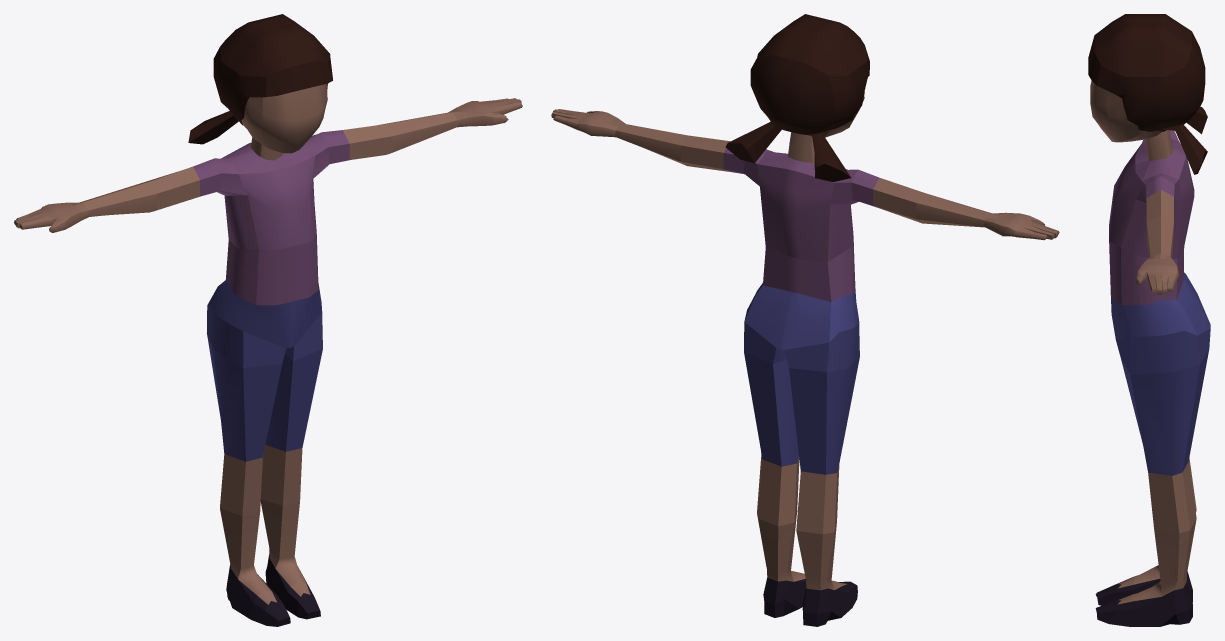
File: girl_model.fbx
3 renders of one model, left to right at view 1: azimuth 30°, elevation 25°; view 2: azimuth 150°, elevation 25°; view 3: azimuth 270°, elevation 25°, orthographic.
Parts seen in each view (by area): view 1: pCube3; view 2: pCube3; view 3: pCube3.
Boxes of the visible parts, box(x1,y1,x2,y2) form: pCube3: box(14, 14, 522, 626); pCube3: box(551, 14, 1059, 626); pCube3: box(1088, 14, 1210, 626).
Size of the model in its own units: 133 by 147 by 27.61.
